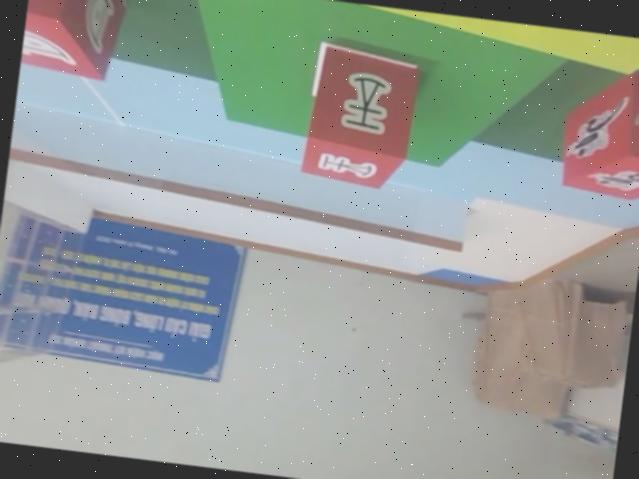R1: (552, 59, 639, 204)
R2 Real: (293, 35, 427, 194), (18, 0, 128, 88)
